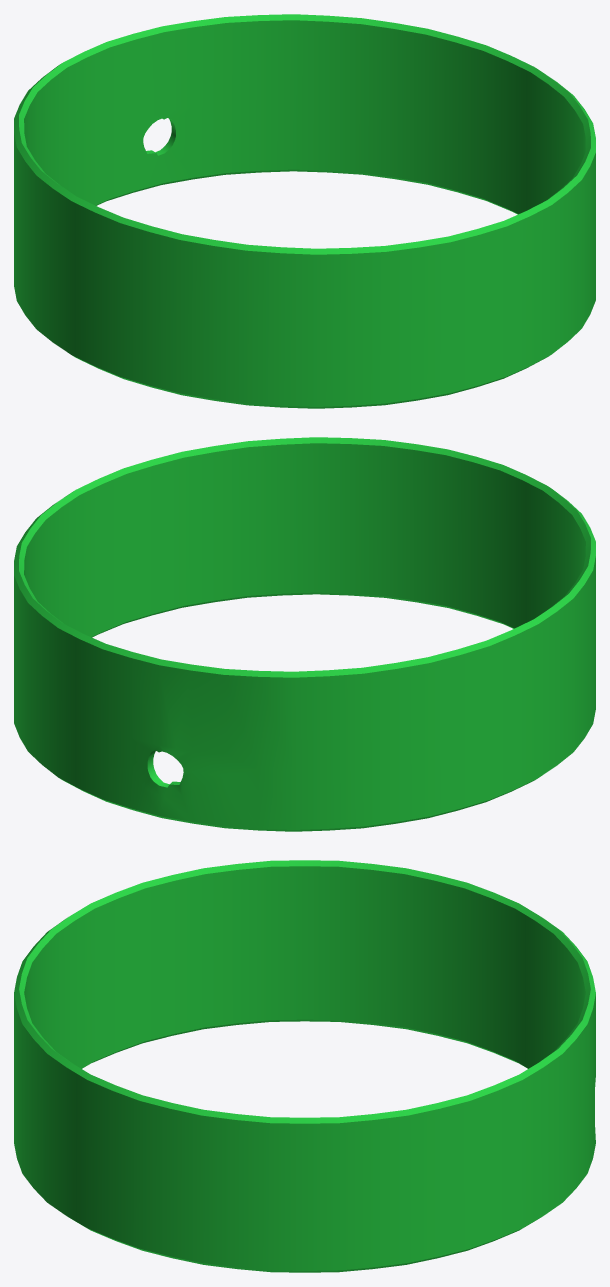
File: SM_ReboilerFlange.FBX
3 renders of one model, top to bottom at view 1: azimuth 30°, elevation 25°; view 2: azimuth 150°, elevation 25°; view 3: azimuth 270°, elevation 25°, orthographic.
Parts seen in each view (by area): view 1: SM_ReboilerFlange; view 2: SM_ReboilerFlange; view 3: SM_ReboilerFlange.
Part boxes in pixels (x1,y1,x2,y2): SM_ReboilerFlange: (14, 14, 595, 408); SM_ReboilerFlange: (14, 437, 595, 831); SM_ReboilerFlange: (14, 860, 595, 1272).
Size of the model in its own units: 105 by 105 by 34.2.
